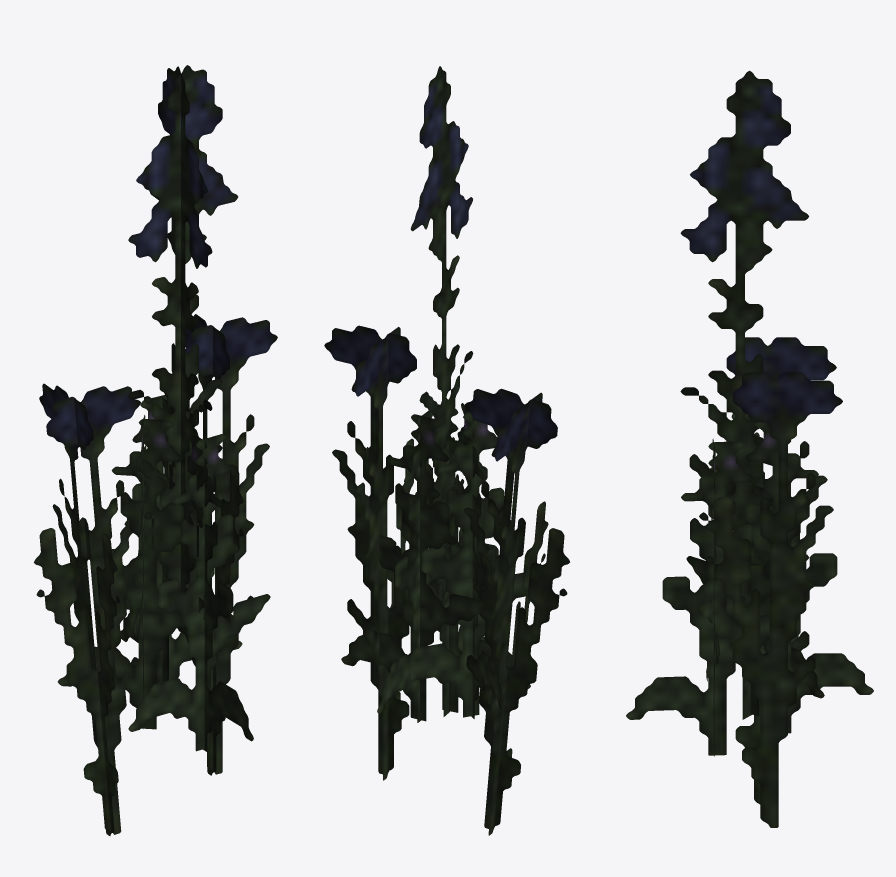
File: SM_EC_Plant_Bush_13.fbx
3 views of the same model, side by side, from view 1: azimuth 30°, elevation 25°; view 2: azimuth 150°, elevation 25°; view 3: azimuth 270°, elevation 25° (orthographic). The views are drawn at different scales.
Visible parts, largest first — view 1: SM_EC_Plant_Bush_13; view 2: SM_EC_Plant_Bush_13; view 3: SM_EC_Plant_Bush_13.
Boxes of the visible parts, left/top/right/bottom form: SM_EC_Plant_Bush_13: left=34, top=65, right=277, bottom=835; SM_EC_Plant_Bush_13: left=324, top=66, right=569, bottom=835; SM_EC_Plant_Bush_13: left=626, top=70, right=873, bottom=827.
Bounding box in the file's own units: 0.5478 × 0.4486 × 1.5.
